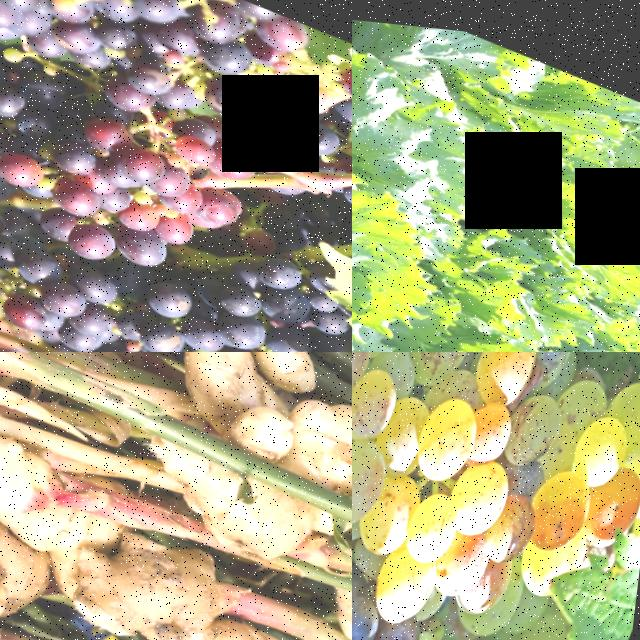ginger: (62, 501, 272, 640), (0, 369, 119, 603)
grapes: (352, 352, 640, 640), (0, 1, 280, 279), (0, 205, 343, 352), (0, 0, 329, 144), (352, 455, 453, 640)
lettuce: (352, 70, 490, 299), (427, 198, 629, 352)
